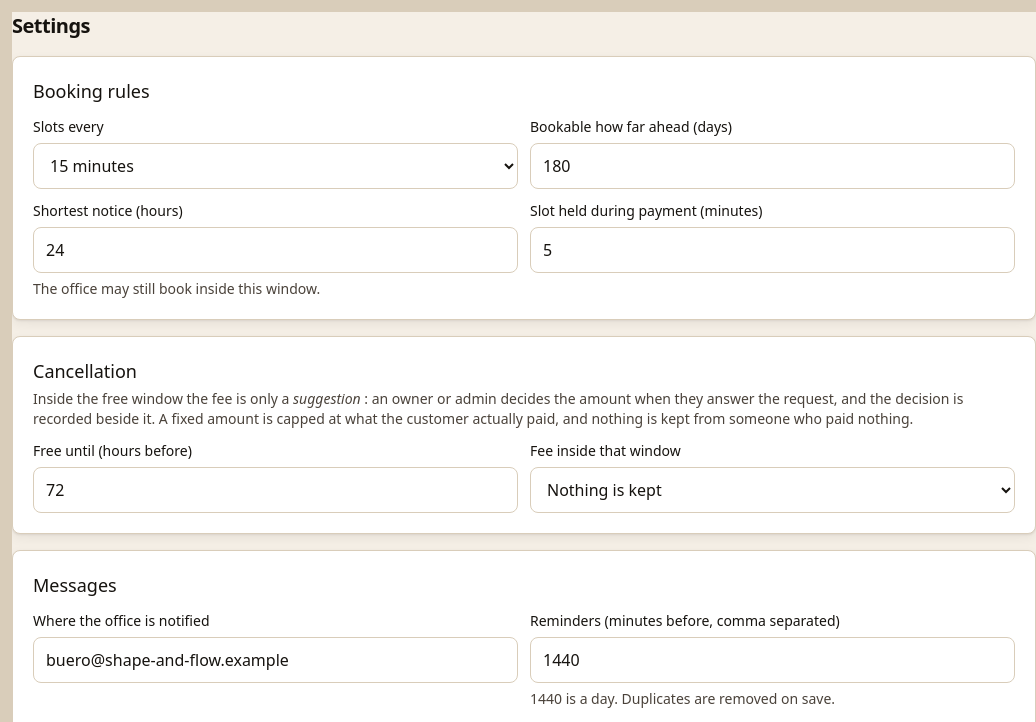
Test: SettingsPage › shows only the amount the chosen policy uses
Select "A share of what was paid" in the dropdown with test id "fee-policy" at coordinates (772, 490), box [530,467,1015,513]
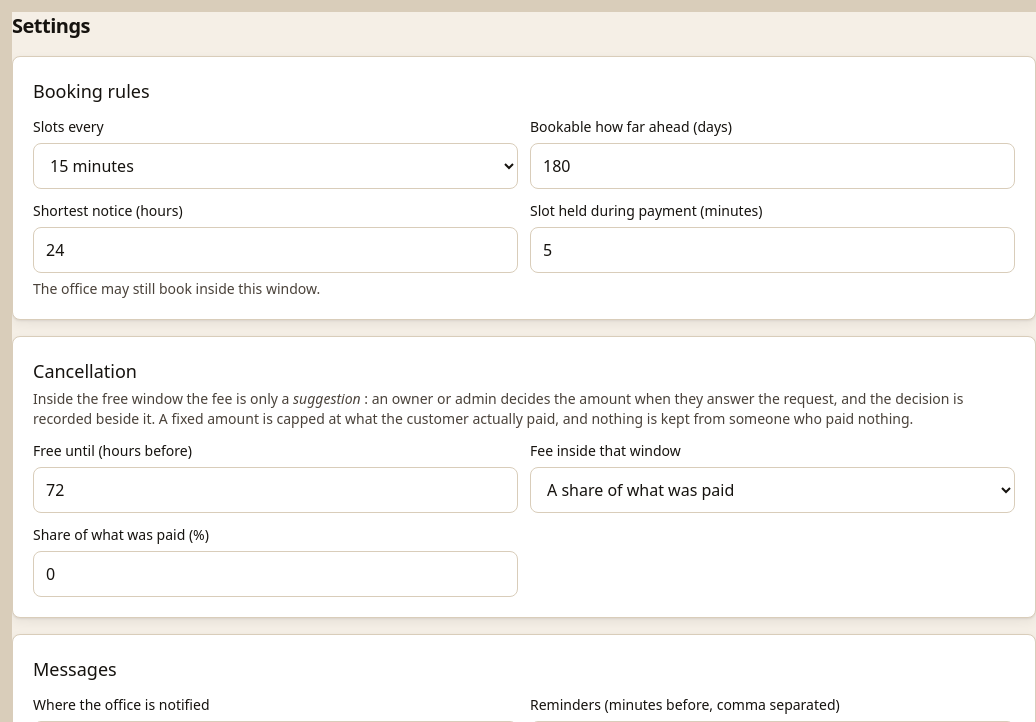
Expected: the number field with test id "fee-percent" is shown, [33,551,518,597]
Select "A fixed amount" in the dropdown with test id "fee-policy" at coordinates (772, 490), box [530,467,1015,513]
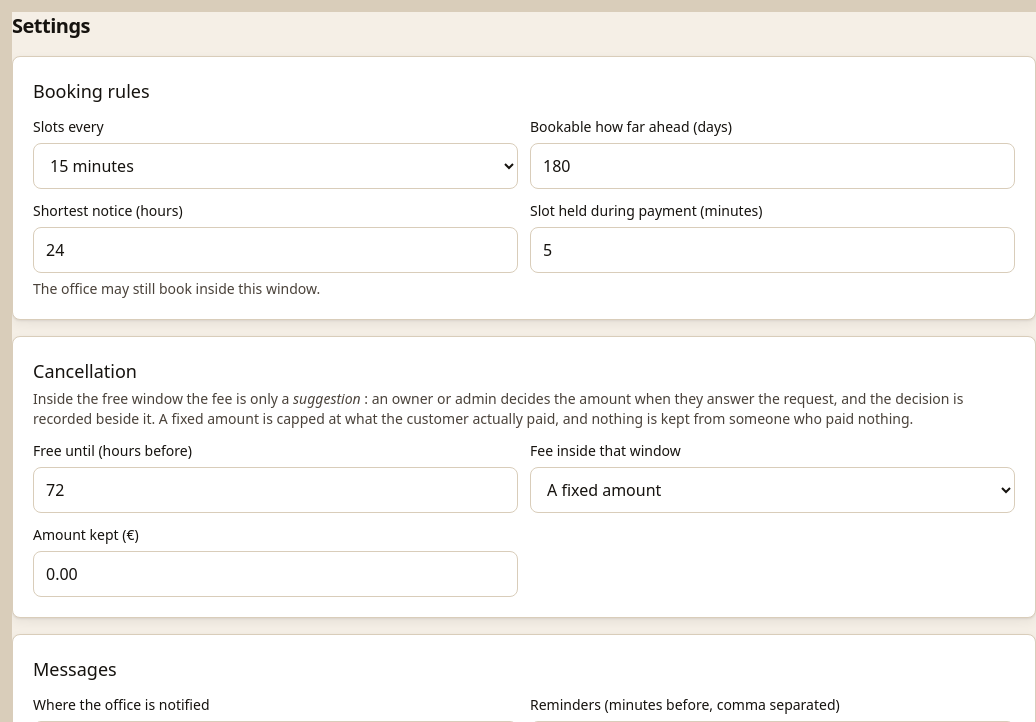
Expected: the field with test id "fee-amount" is shown, [33,551,518,597]
